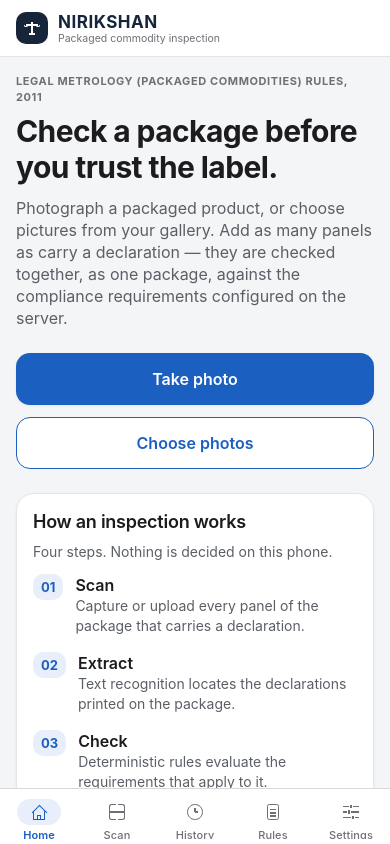
Test: the scan flow › sends three photos as one request with three image parts
This screenshot has width=390, height=844.
Click the button with test id "choose-from-gallery": (195, 443) [16,417,374,469]
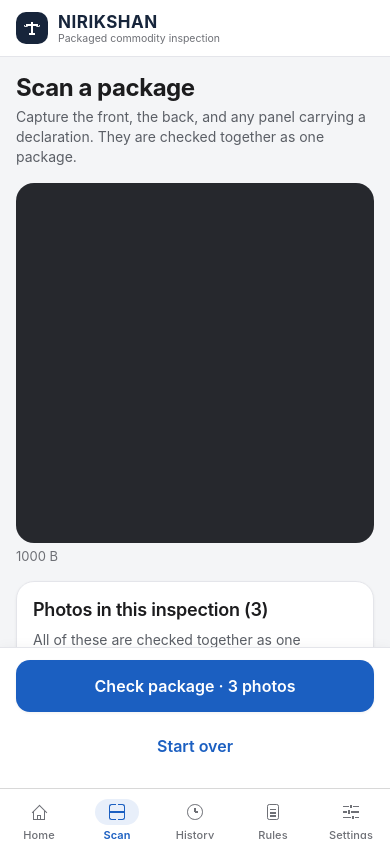
Check: the element with test id "scan-screen" is shown
Click the button with test id "check-package": (195, 686) [16,660,374,712]
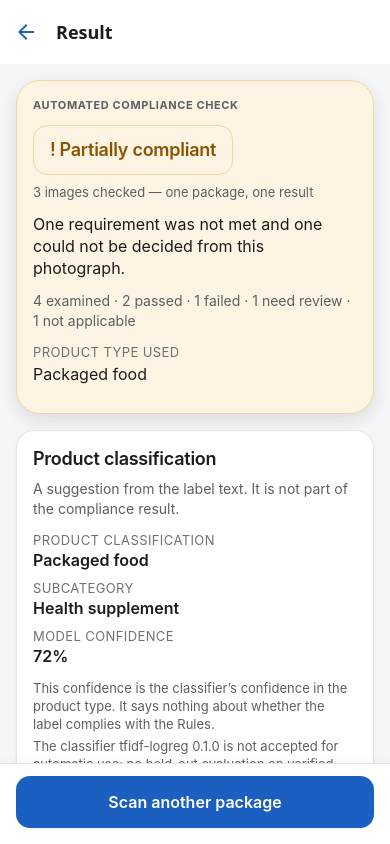
Check: the element with test id "result-screen" is shown
